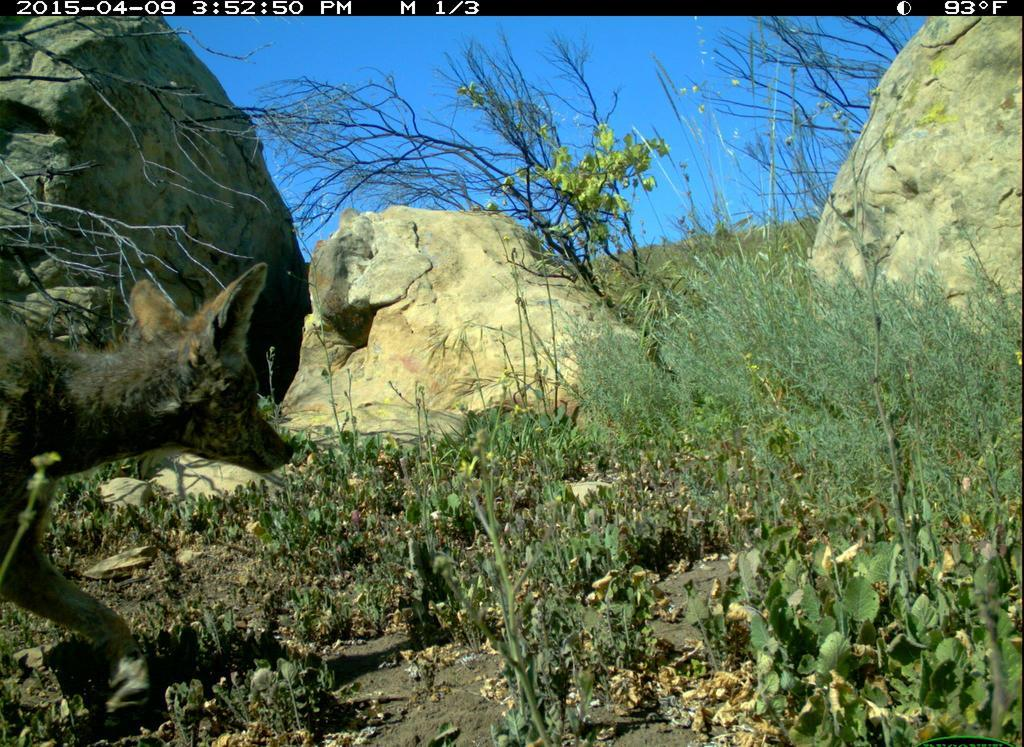coyote: (1, 250, 322, 717)
